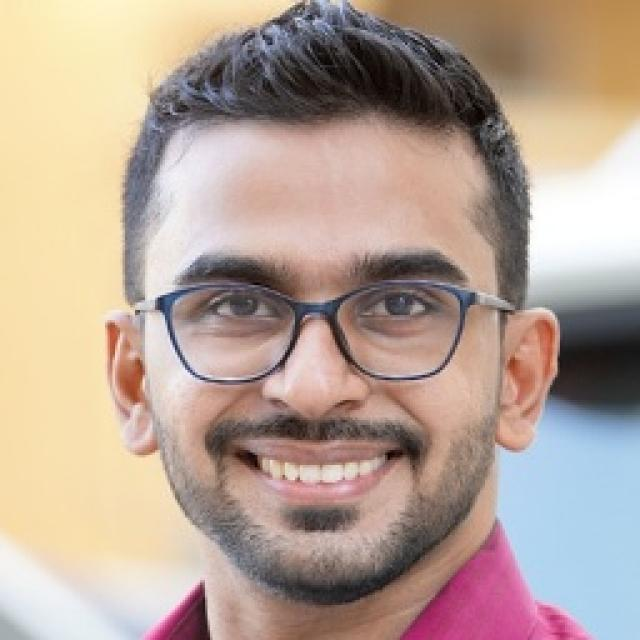glasses: (125, 266, 521, 394)
